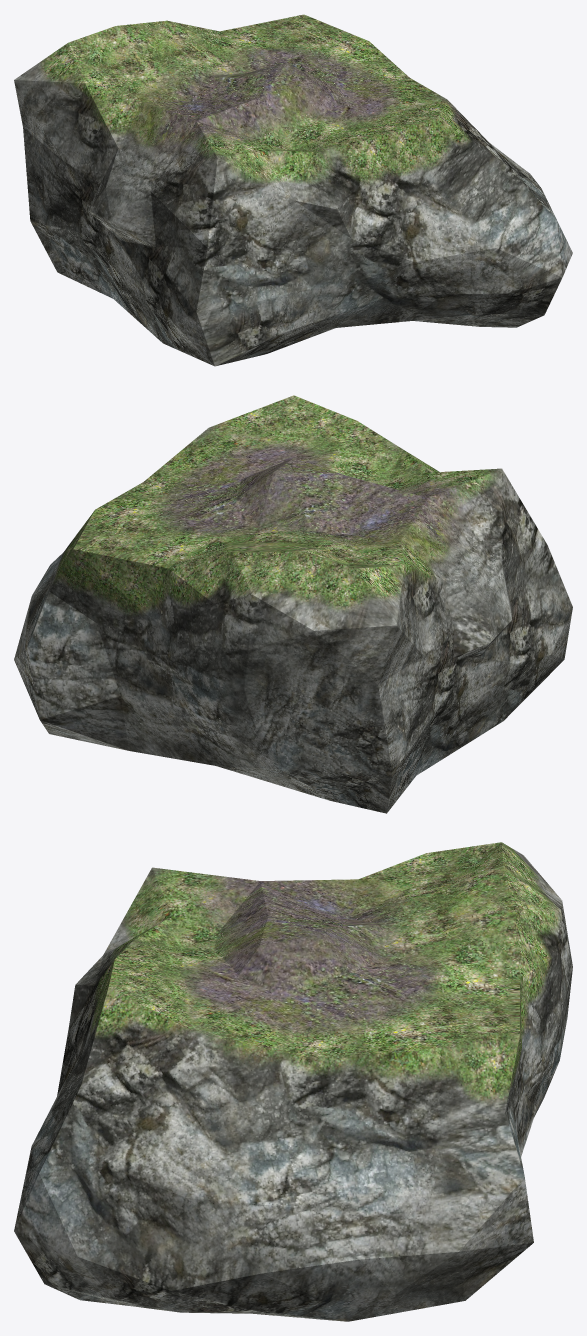
File: DinoCliffGrass_01.DAE
The picture shows the model from 3 angles, top to bottom: view 1: azimuth 30°, elevation 25°; view 2: azimuth 150°, elevation 25°; view 3: azimuth 270°, elevation 25°; orthographic projection. The views are drawn at different scales.
Parts seen in each view (by area): view 1: DinoCliffGrass300; view 2: DinoCliffGrass300; view 3: DinoCliffGrass300.
Boxes of the visible parts, box(x1,y1,x2,y2) form: DinoCliffGrass300: box(14, 14, 572, 366); DinoCliffGrass300: box(14, 395, 572, 813); DinoCliffGrass300: box(14, 842, 572, 1321).
Size of what is drawn, in the model's own units: 73.64 by 70.65 by 42.83.
